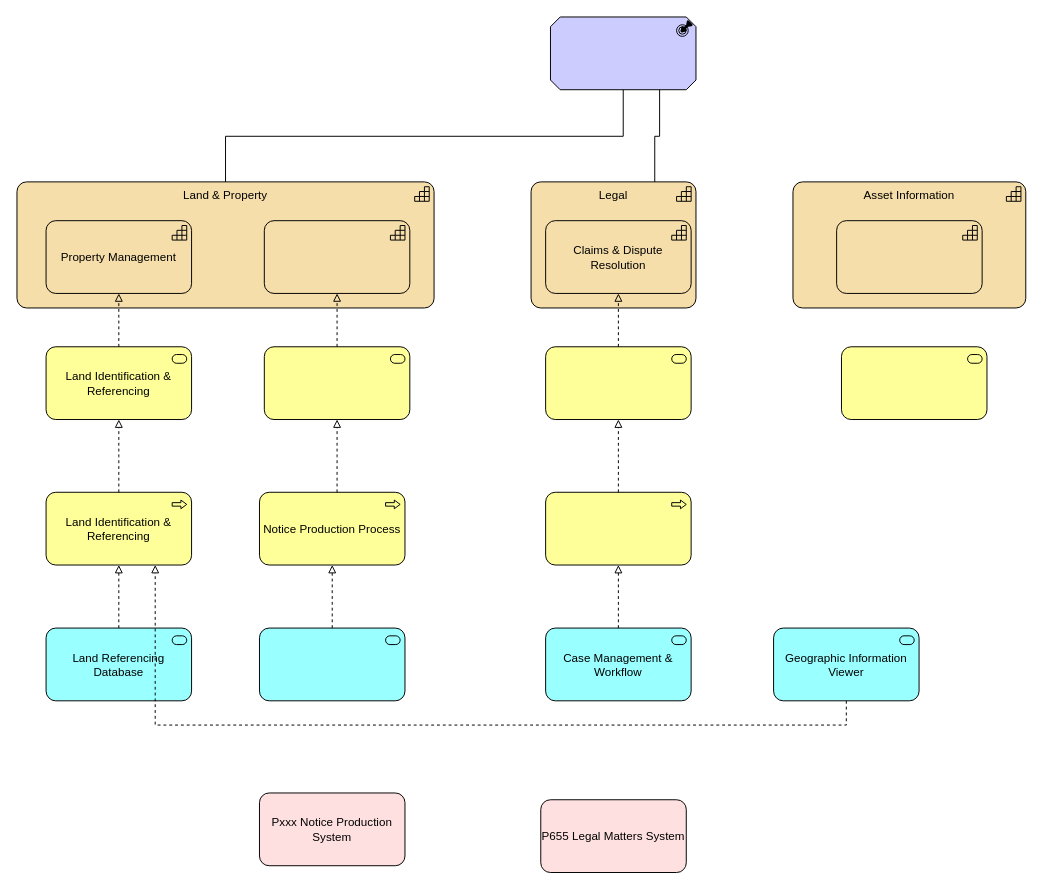
This 1043x889 diagram has some shape labels left out. The centre of each missing label's shape, as x and y in pixels:
Compulsory Purchase: the point at 336,256
Geographic Information System (GIS): the point at 909,256
Legal Case Handling: the point at 618,383
Legal Case Management: the point at 618,528
Notice Production: the point at 336,383
Notice Production System: the point at 332,664
Phase 1 Compulsory Purchase EOP Delivered: the point at 623,53
